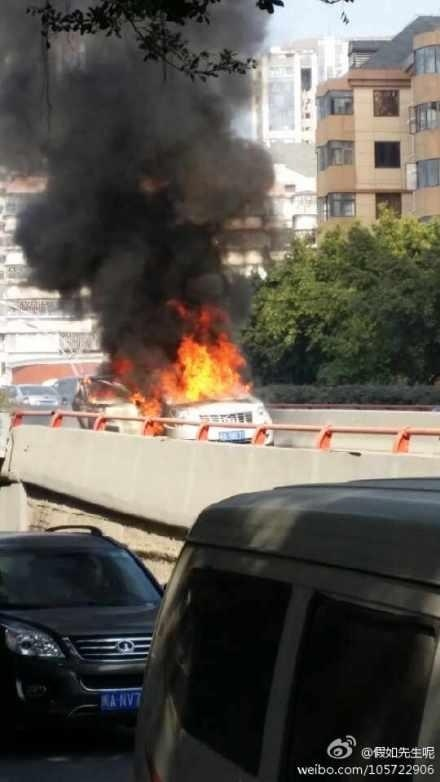fire: (88, 297, 266, 437)
